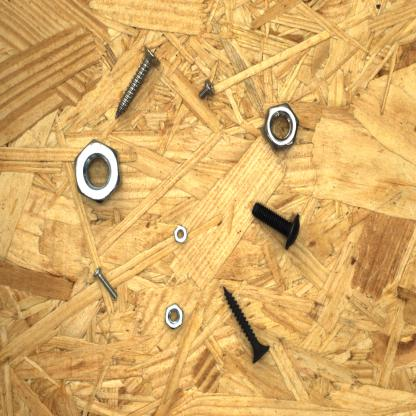screw: (220, 280, 272, 367), (113, 40, 163, 123), (247, 197, 304, 254), (92, 263, 121, 301), (195, 76, 218, 104)
